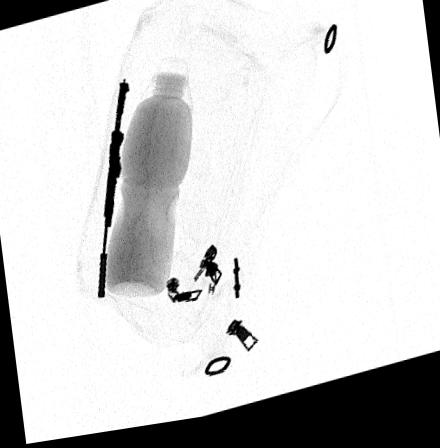Gun: (96, 85, 130, 301)
